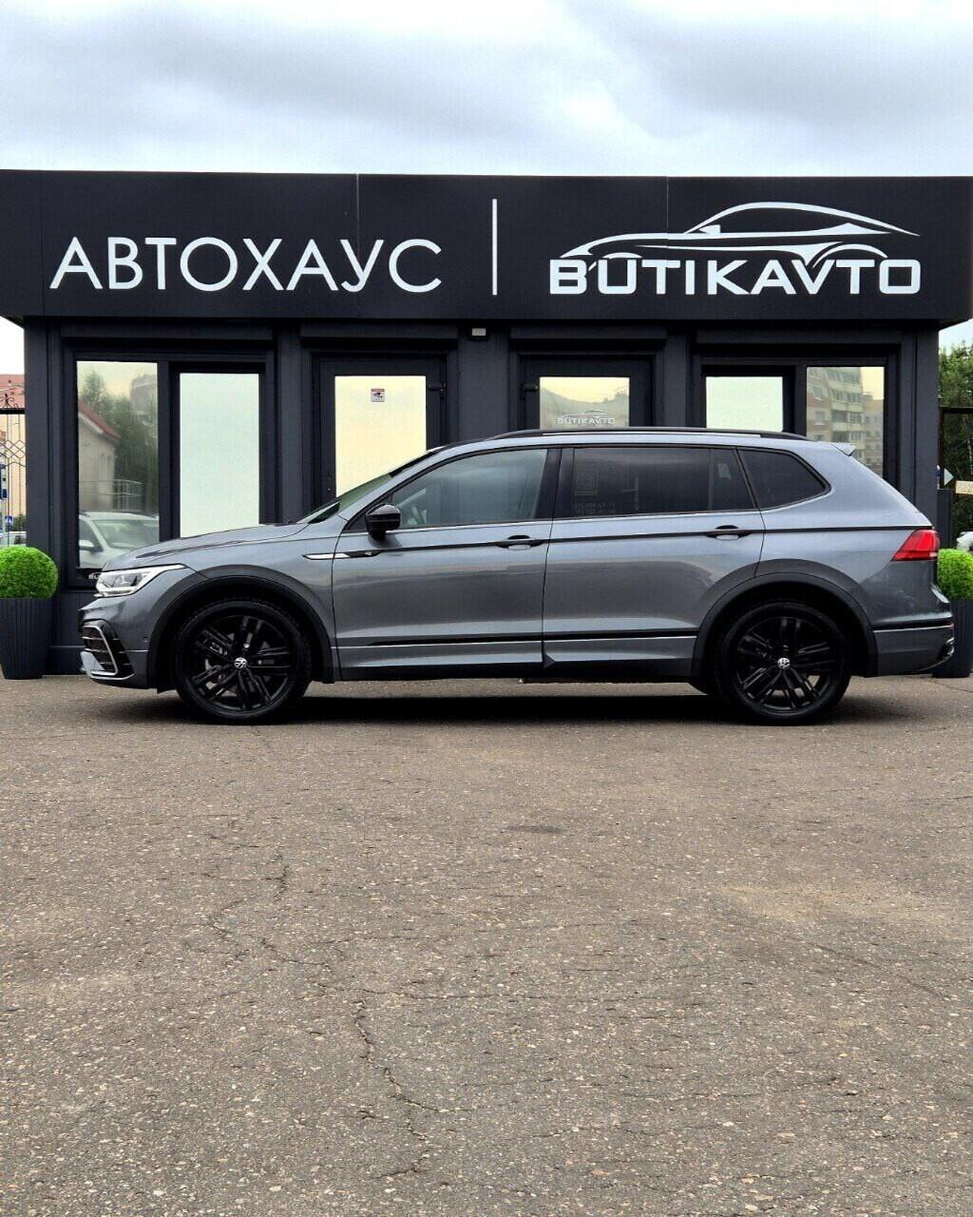Tiguan_2020-2024: (79, 423, 945, 729)
